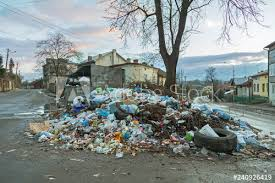garbage: (63, 95, 213, 152), (38, 113, 235, 148), (143, 115, 257, 155), (97, 89, 162, 155)
